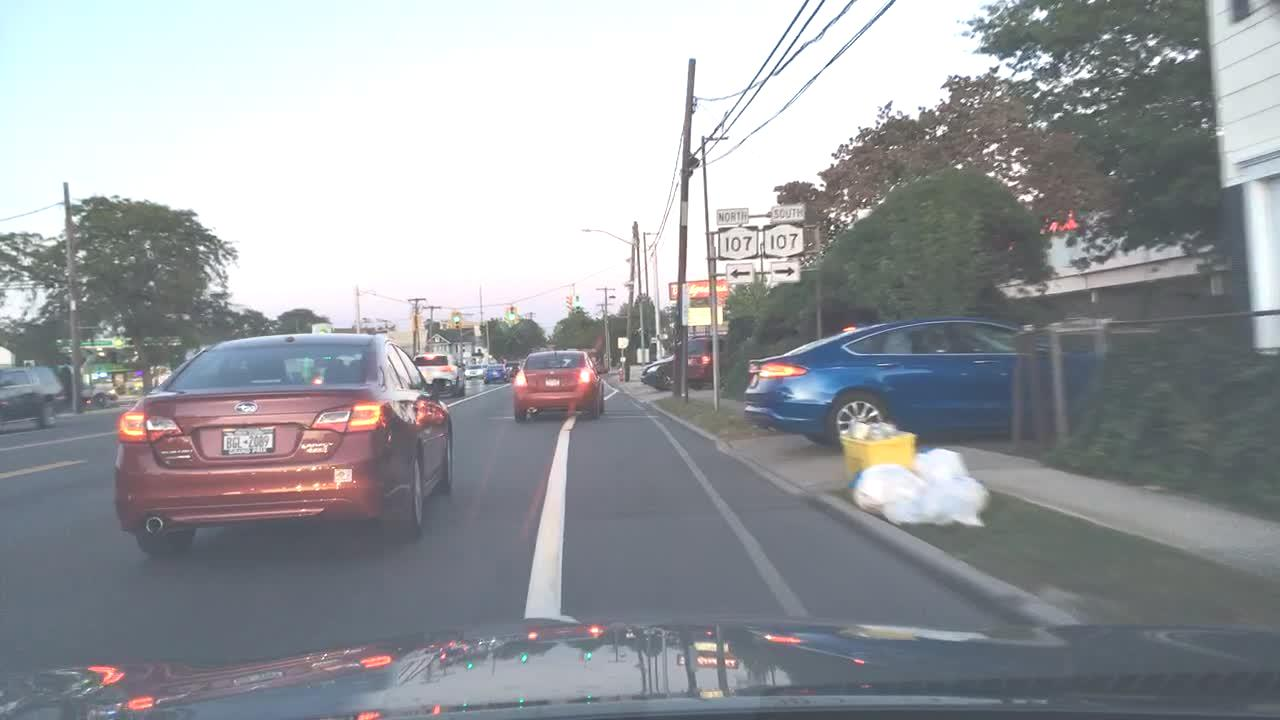subaru: (232, 399, 260, 416)
